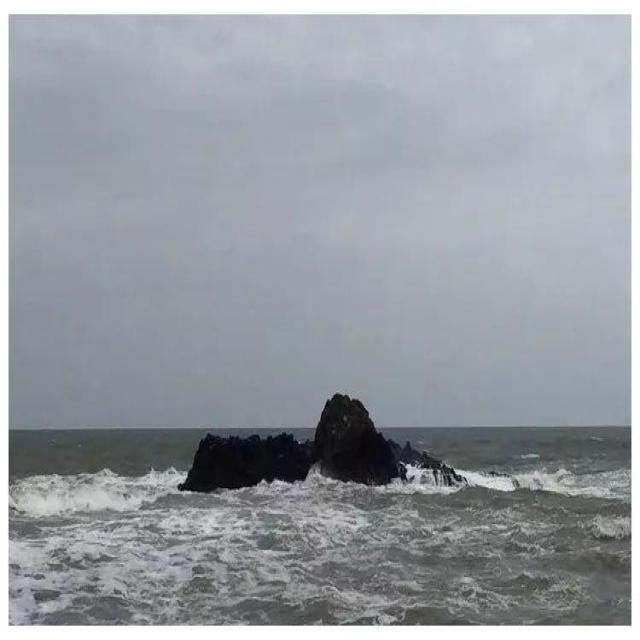reef: (177, 377, 452, 496)
